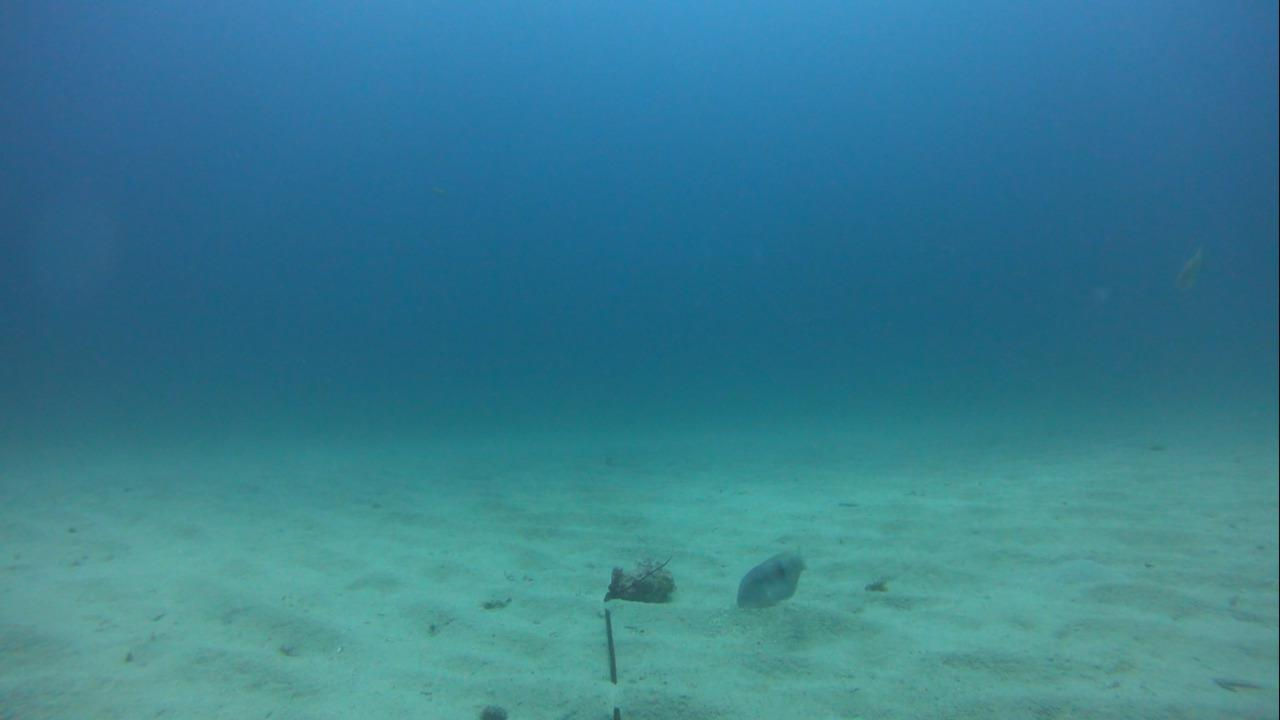raor: (728, 545, 819, 615), (1175, 241, 1211, 302)
